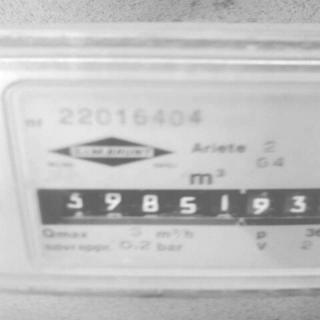2: (219, 192, 232, 212)
4: (289, 194, 309, 214), (66, 192, 87, 210)
6: (179, 197, 200, 216)
9: (140, 193, 162, 213)
:: (102, 192, 124, 213), (250, 197, 272, 215)
